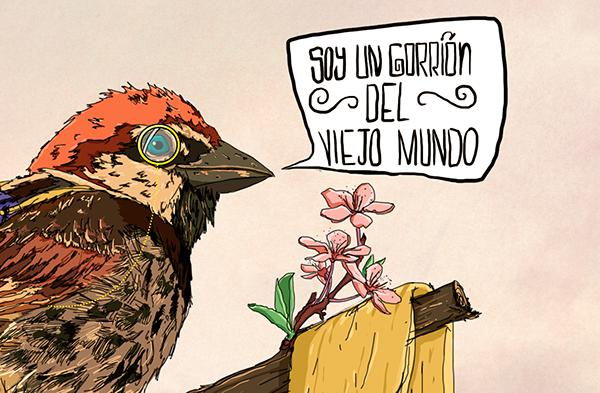bird: (1, 69, 283, 393)
